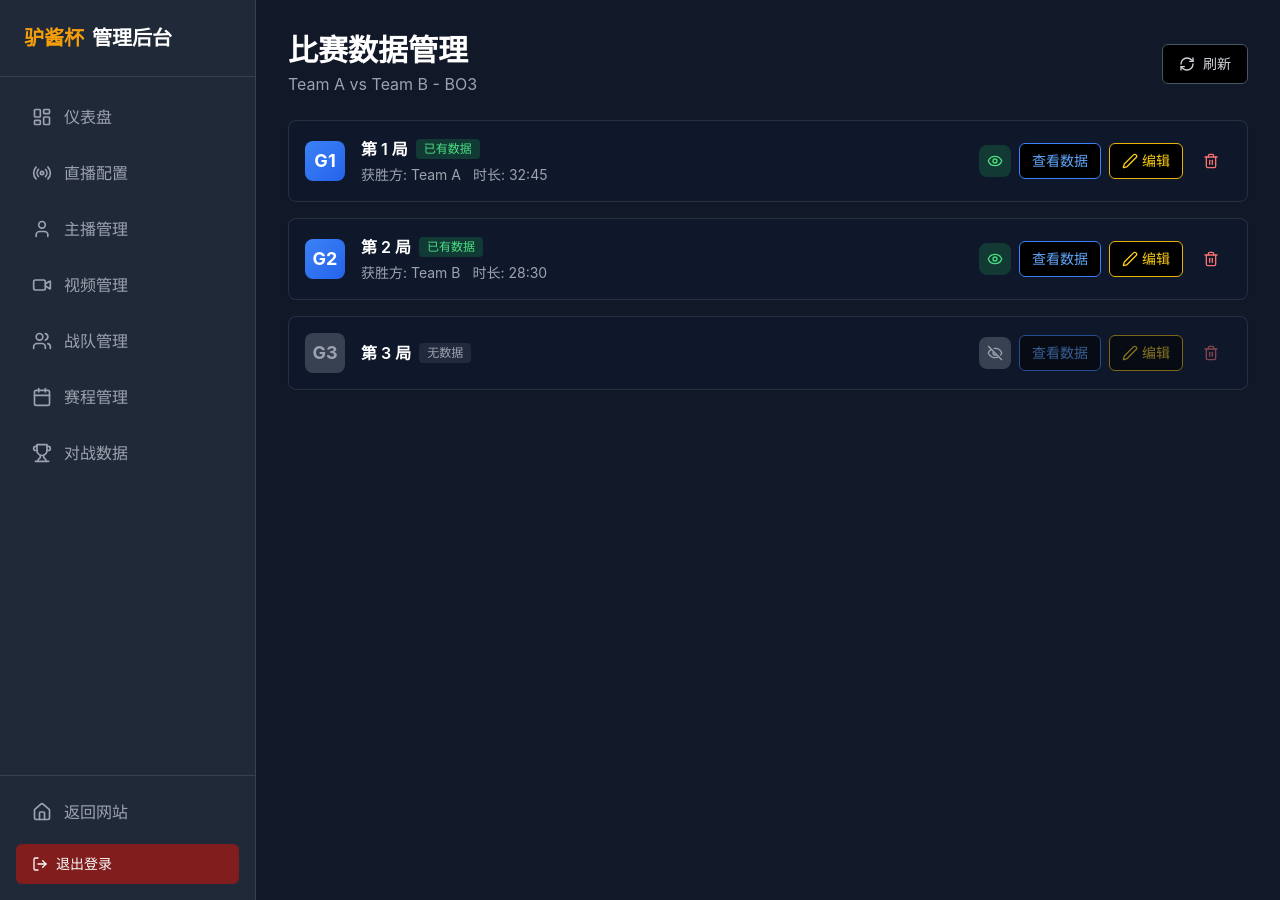
Test: MatchDataManagement › opens delete confirmation dialog when delete button is clicked
Check: the heading "第 1 局" is shown, box [361,137,408,161]
Click the button titled "删除数据" in the row of "32:45" at (1211, 161), box [1191,141,1231,181]
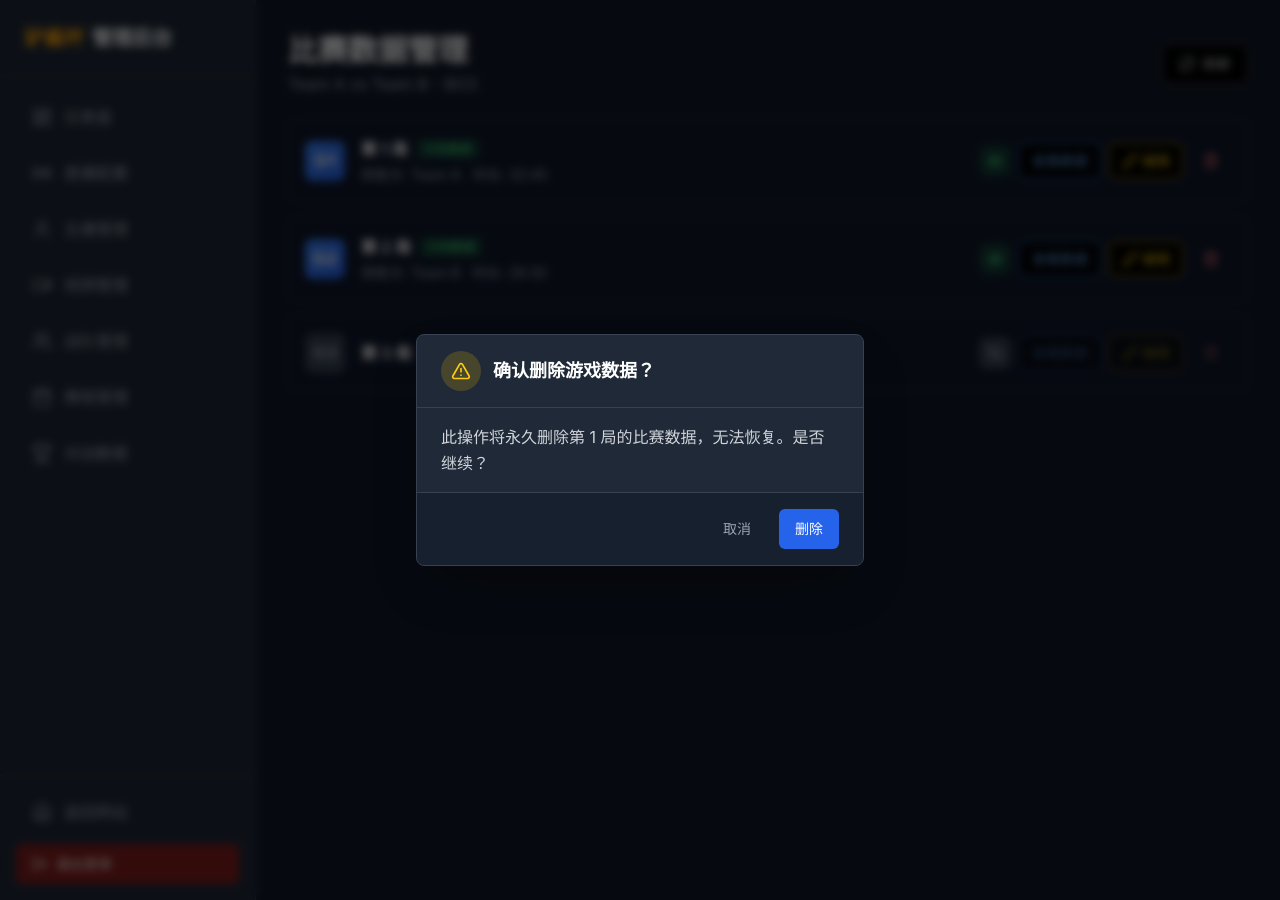
Check: the heading "确认删除游戏数据？" is shown, box [493,357,655,385]
